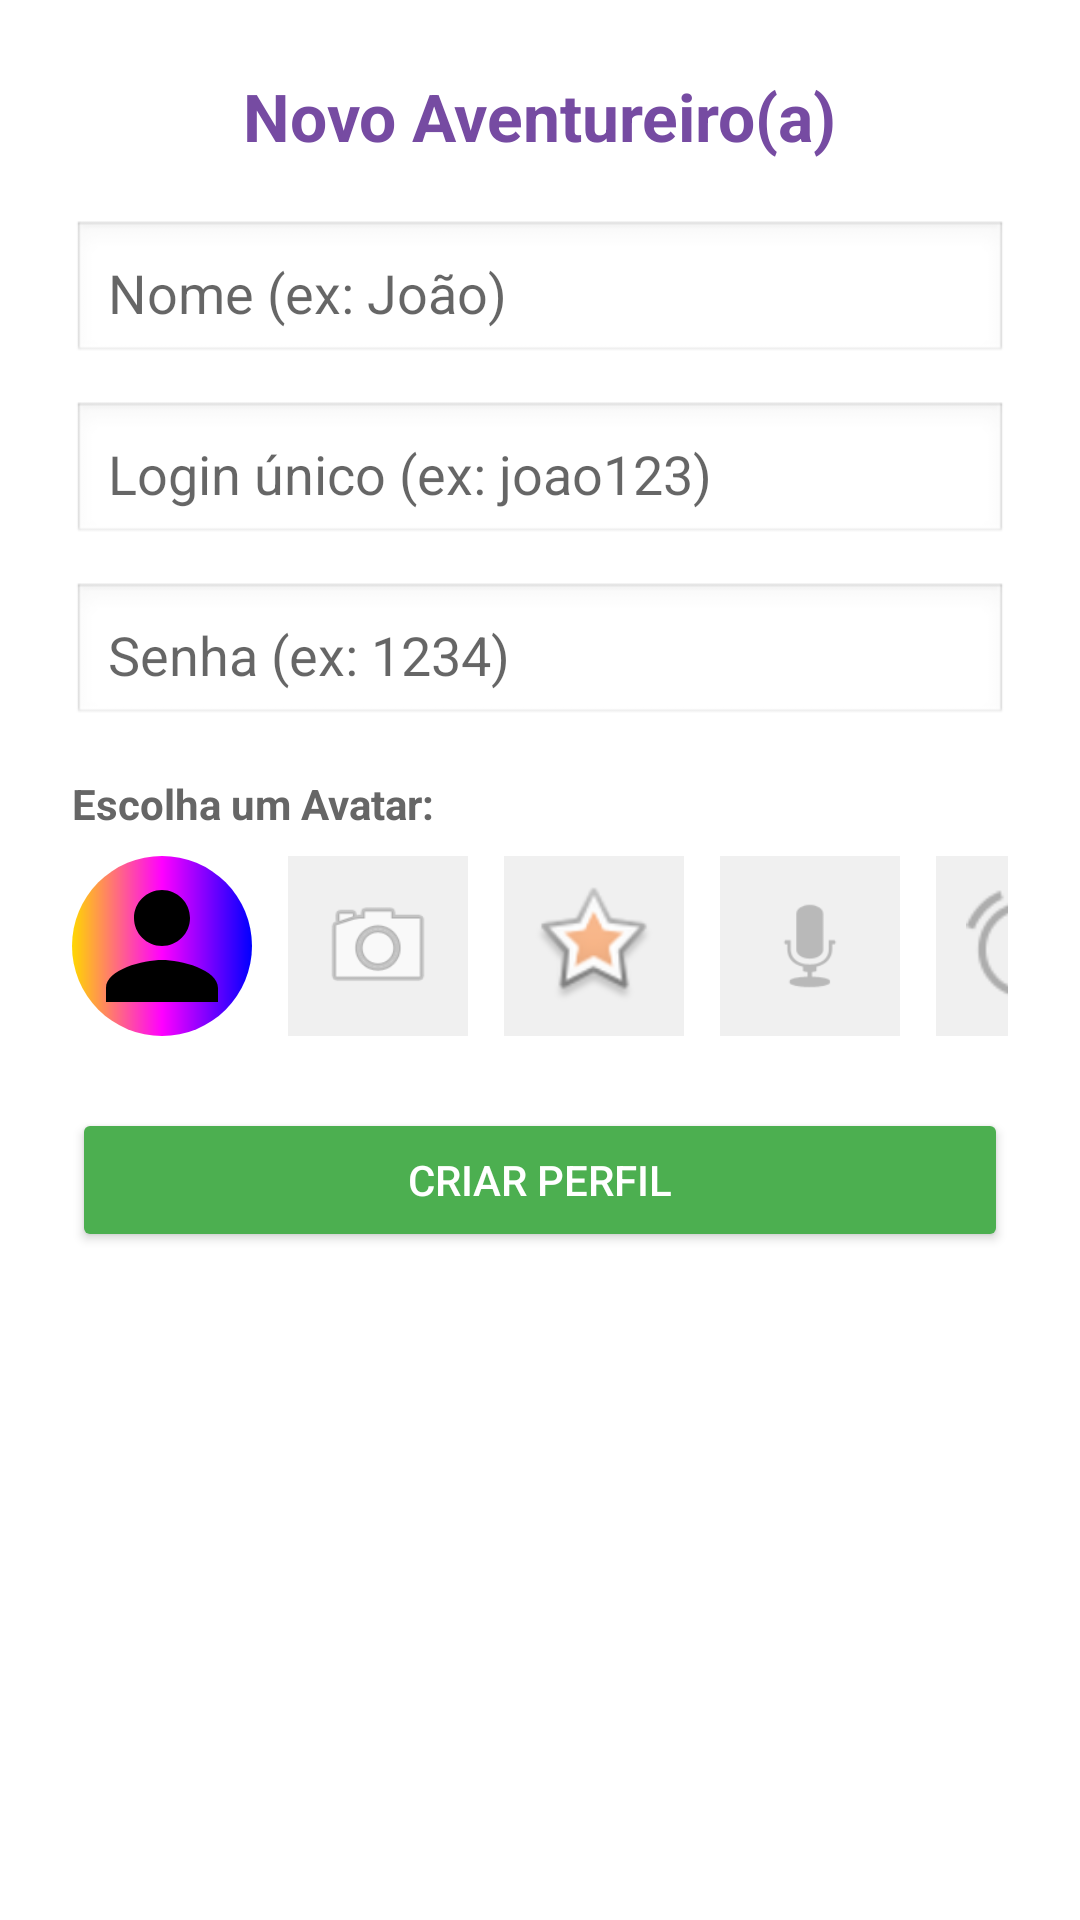

Where icons sit on this 1080*1920 app screen, as (x1, y1, x2, y2):
camera: (288, 856, 468, 1036)
person: (72, 856, 252, 1036)
speak now: (784, 904, 836, 988)
star on: (504, 856, 684, 1036)
